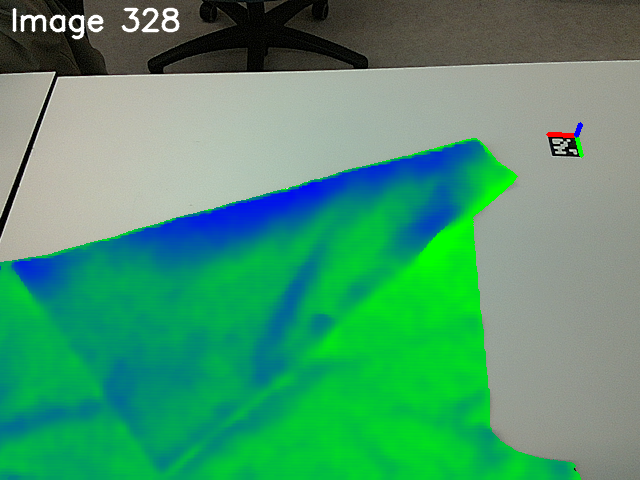V: (123, 414, 193, 477)
